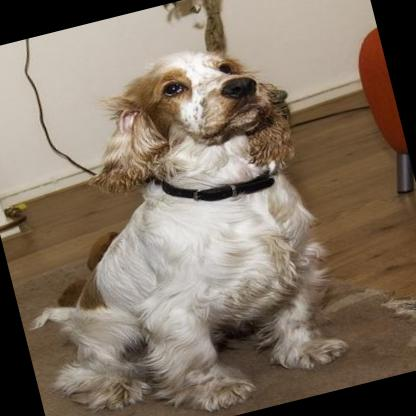cocker_spaniel: (0, 25, 364, 416)
